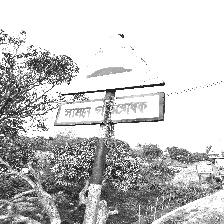Speed-breaker: (52, 32, 162, 123)
